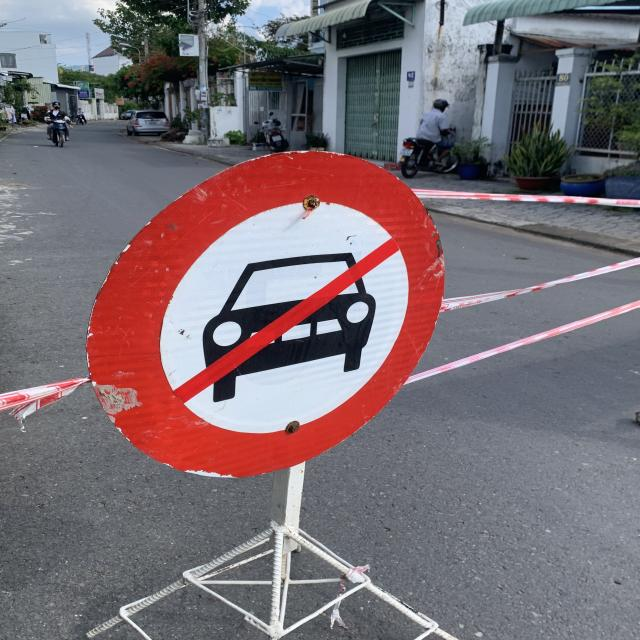Cam_O_To: (91, 150, 447, 478)
